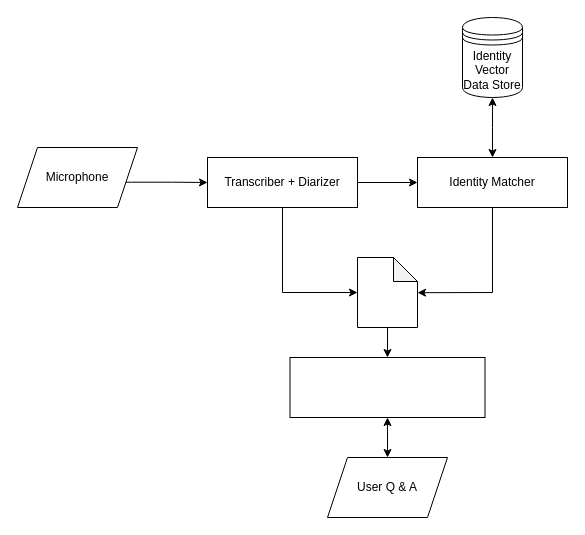
Image size: 585x535. Some labels were removed from this diagram. The centre of each missing label's shape, as x and y in pixels:
"LLM Agent" belongs at (387,387).
"Transcript" belongs at (387,292).
